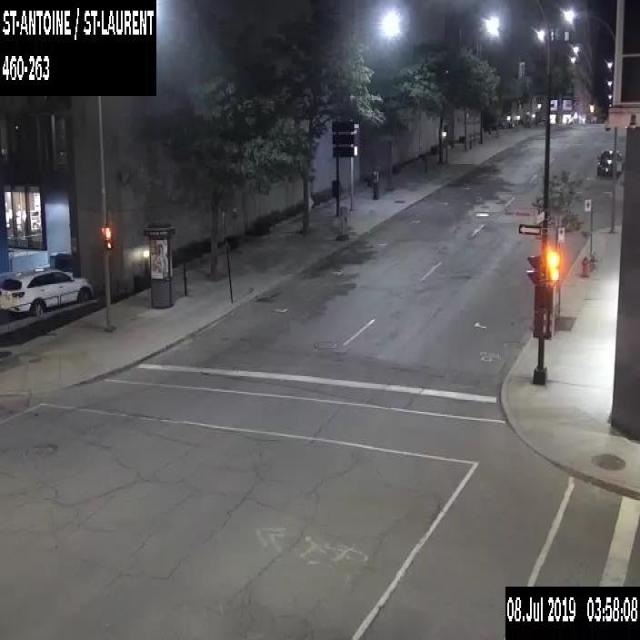vehicle: (0, 267, 93, 317), (596, 148, 622, 176)
